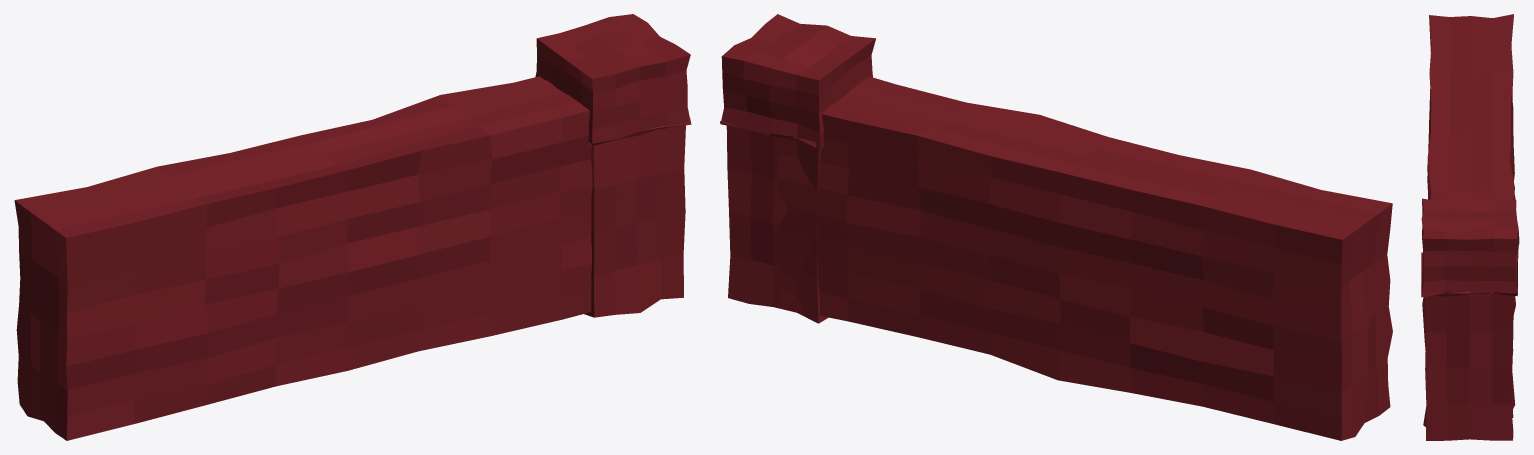
Rendered from BrickWall.fbx.
The picture shows the model from 3 angles, left to right: view 1: azimuth 30°, elevation 25°; view 2: azimuth 150°, elevation 25°; view 3: azimuth 270°, elevation 25°; orthographic projection. The views are drawn at different scales.
Parts seen in each view (by area): view 1: Plane.003; view 2: Plane.003; view 3: Plane.003.
Part boxes in pixels (x1=…): Plane.003: x1=14, y1=14, x2=691, y2=440; Plane.003: x1=720, y1=14, x2=1392, y2=440; Plane.003: x1=1421, y1=14, x2=1519, y2=440.
Size of the model in its own units: 2876 by 1096 by 470.
